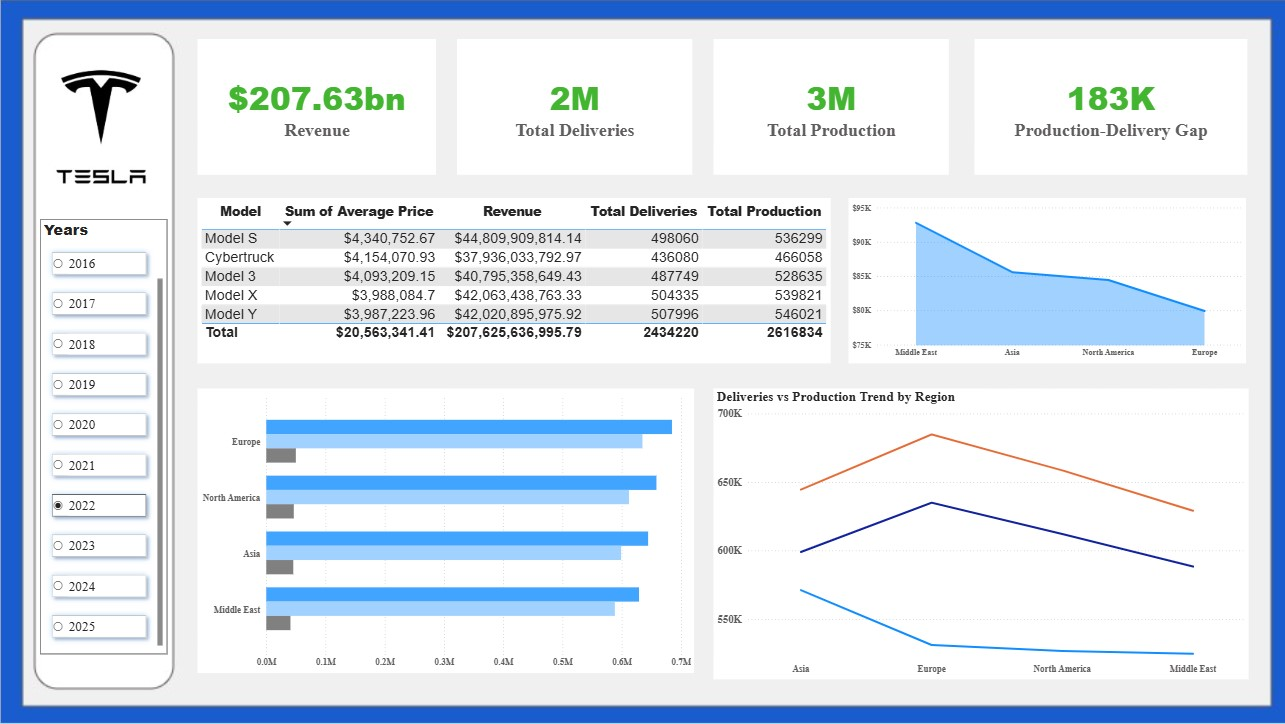

What the dashboard file says about the page in this screenshot:
{"tool":"powerbi","page":{"name":"Tesla Business Performance Dashboard (2015–2025)","canvas":[1920,1080],"ordinal":0},"visuals":[{"type":"image","box":[53.9,79.7,206.3,213.3],"z":0},{"type":"card","fields":{"Values":["tesla_deliveries_data.Total Deliveries"]},"box":[683.2,58.4,350.1,201.8],"z":1000},{"type":"card","fields":{"Values":["tesla_deliveries_data.Total Production"]},"box":[1065,58.4,350.1,201.8],"z":2000},{"type":"card","fields":{"Values":["tesla_deliveries_data.Estimated Revenue"]},"box":[296.6,58.4,355,201.8],"z":3000},{"type":"card","fields":{"Values":["tesla_deliveries_data.Production-Delivery Gap"]},"box":[1451.6,58.4,406.1,201.8],"z":4000},{"type":"listSlicer","title":"Years","fields":{"Values":["tesla_deliveries_data.Year"]},"box":[63.2,325.3,189.5,647.4],"z":5000},{"type":"stackedAreaChart","fields":{"Category":["tesla_deliveries_data.Region"],"Y":["tesla_deliveries_data.Average Delivery Price"]},"box":[1266,294.6,591.6,245.9],"z":6000},{"type":"lineChart","title":"Deliveries vs Production Trend by Region","fields":{"Category":["tesla_deliveries_data.Region"],"Y":["Sum(tesla_deliveries_data.Charging_Stations)","tesla_deliveries_data.Total Deliveries","tesla_deliveries_data.Total Production"]},"box":[1064.2,577.9,795.8,432.6],"z":7000},{"type":"tableEx","fields":{"Values":["tesla_deliveries_data.Model","Sum(tesla_deliveries_data.Avg_Price_USD)","tesla_deliveries_data.Estimated Revenue","tesla_deliveries_data.Total Deliveries","tesla_deliveries_data.Total Production"]},"box":[297,294.6,942.2,245.9],"z":8000},{"type":"clusteredBarChart","fields":{"Category":["tesla_deliveries_data.Region"],"Y":["tesla_deliveries_data.Total Production","tesla_deliveries_data.Total Deliveries","tesla_deliveries_data.Production-Delivery Gap"]},"box":[296.8,577.9,739,423.2],"z":9000}]}

Visuals, with their boxes in screenshot pixels (x1, y1, x2, y2), scaled from the page's 1920x1080 canvas onto the 1285x724 screenshot:
image: left=36, top=53, right=174, bottom=196
card - tesla_deliveries_data.Total Deliveries: left=457, top=39, right=692, bottom=174
card - tesla_deliveries_data.Total Production: left=713, top=39, right=947, bottom=174
card - tesla_deliveries_data.Estimated Revenue: left=199, top=39, right=436, bottom=174
card - tesla_deliveries_data.Production-Delivery Gap: left=972, top=39, right=1243, bottom=174
"Years" listSlicer: left=42, top=218, right=169, bottom=652
stackedAreaChart - tesla_deliveries_data.Region x tesla_deliveries_data.Average Delivery Price: left=847, top=197, right=1243, bottom=362
"Deliveries vs Production Trend by Region" lineChart: left=712, top=387, right=1245, bottom=677
tableEx - tesla_deliveries_data.Model x Sum(tesla_deliveries_data.Avg_Price_USD): left=199, top=197, right=829, bottom=362
clusteredBarChart - tesla_deliveries_data.Region x tesla_deliveries_data.Total Production: left=199, top=387, right=693, bottom=671
